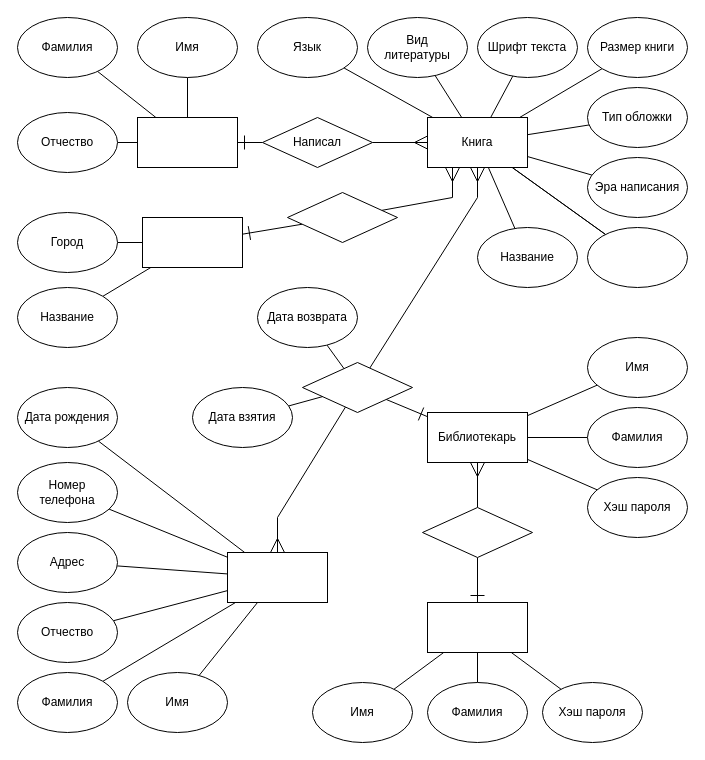
Some shapes in this 705 by 760 pixel diagram are drawn without their labels. The shapes that lost their labels are listed below. From the top down, each one's centre as x and y in pixels, then its label:
At (x=187, y=142): "Автор".
At (x=342, y=217): "Издает".
At (x=192, y=242): "Издательство".
At (x=637, y=257): "Жанр".
At (x=357, y=387): "Получил читать".
At (x=477, y=532): "Создает".
At (x=277, y=577): "Читатель".
At (x=477, y=627): "Администратор".
